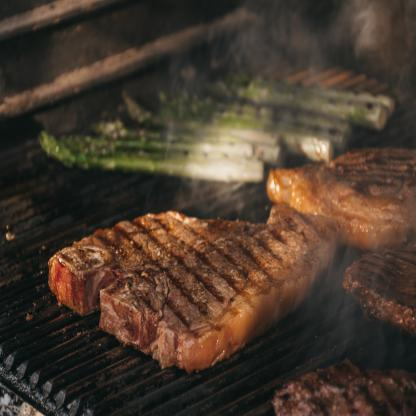Carne: (45, 199, 345, 375), (264, 140, 416, 245), (272, 356, 415, 415), (338, 238, 415, 328)
